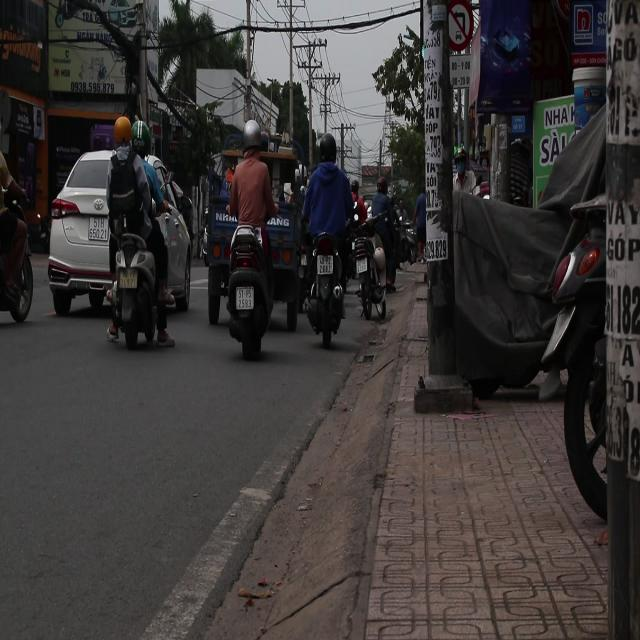car: (46, 149, 116, 318)
motorbike: (105, 194, 167, 351), (224, 219, 275, 360), (348, 200, 396, 336), (303, 232, 345, 346)
